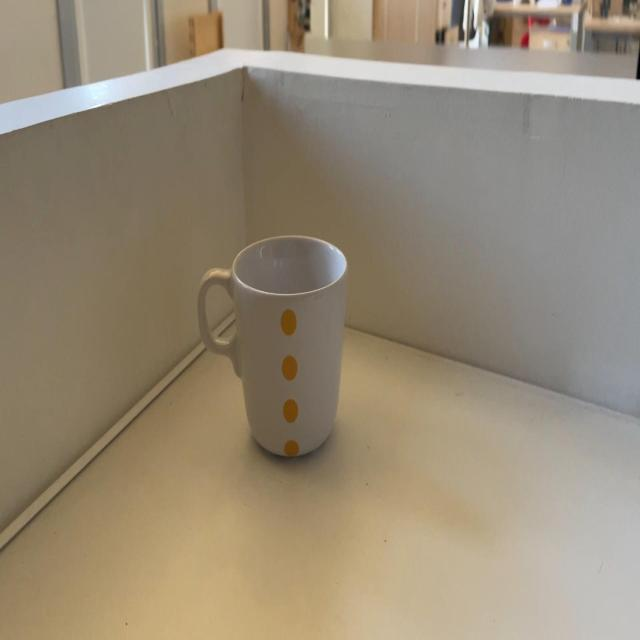cup: (196, 234, 349, 456)
